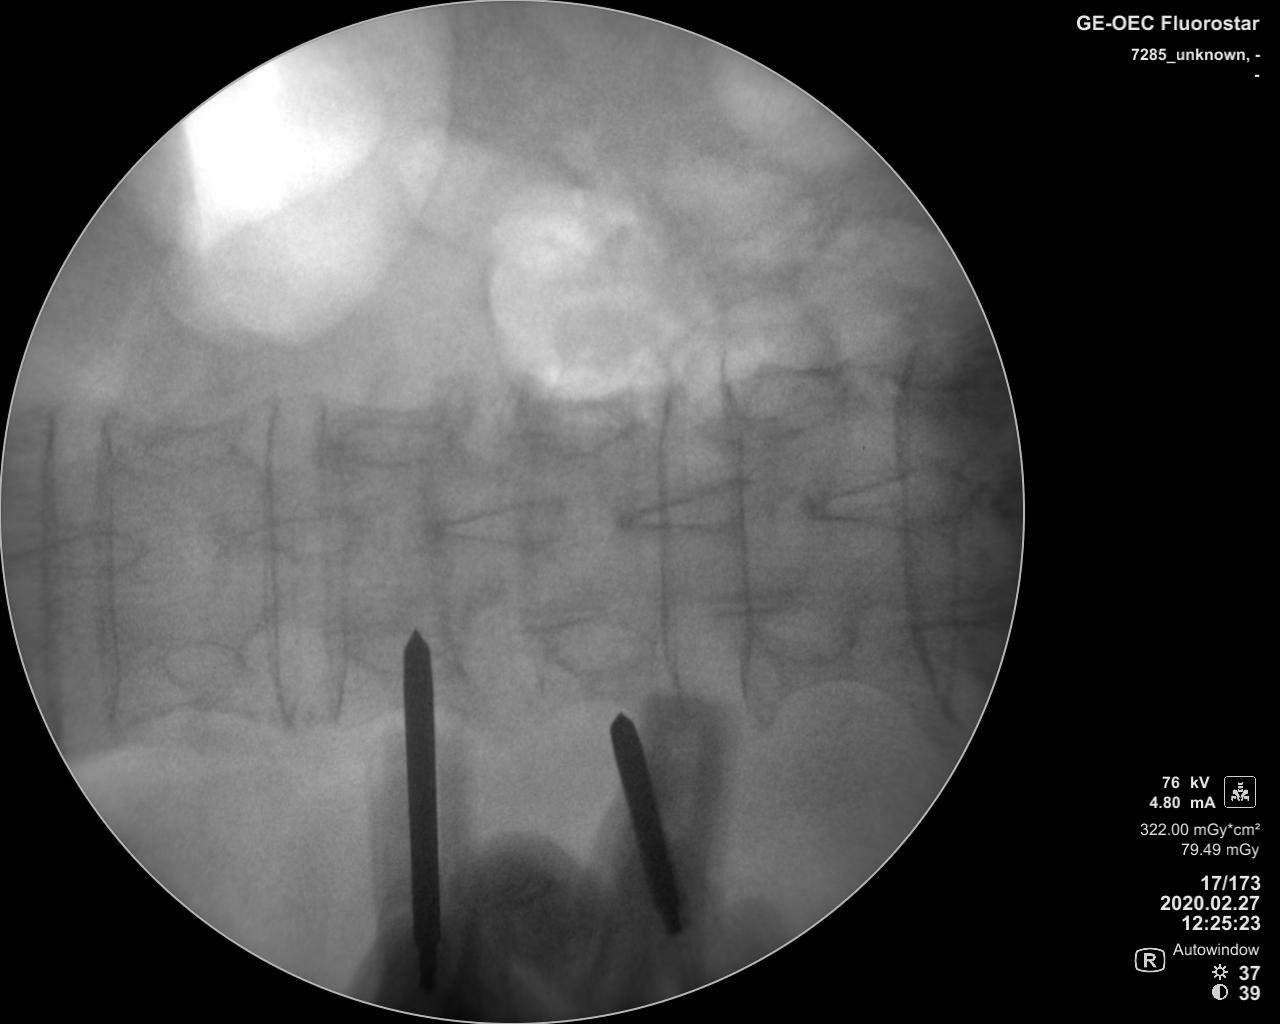eyes: (539, 615, 656, 684), (737, 365, 841, 436), (750, 599, 856, 668), (339, 628, 467, 682), (535, 401, 635, 460), (157, 635, 250, 698), (334, 416, 445, 466), (146, 419, 238, 478)
line: (893, 338, 947, 722), (720, 360, 763, 727), (312, 388, 353, 734), (254, 387, 290, 735), (650, 366, 685, 723), (92, 413, 127, 738), (40, 405, 65, 732)
nose: (800, 462, 977, 528), (607, 478, 778, 534), (422, 496, 578, 550), (235, 506, 375, 564), (9, 526, 147, 581)
